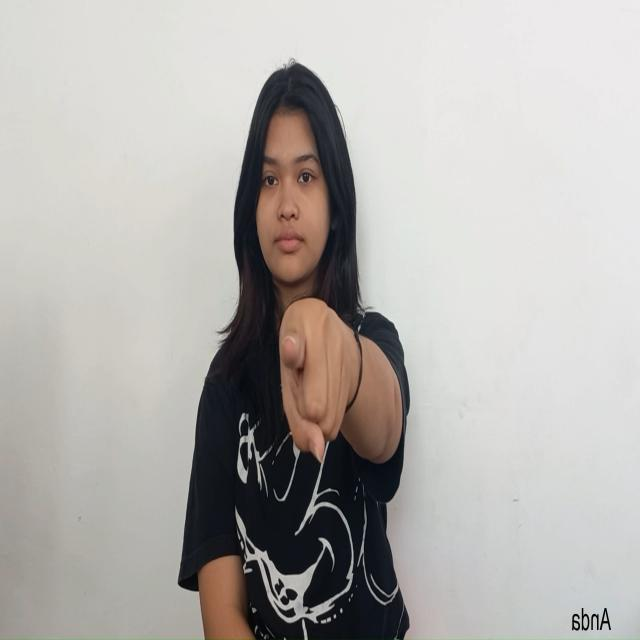Anda -BISINDO-: (278, 296, 358, 467)
